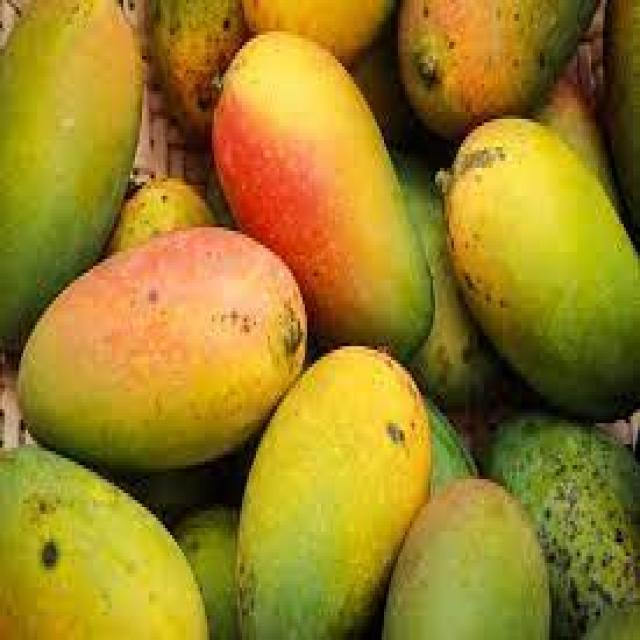mango: (19, 227, 310, 476)
